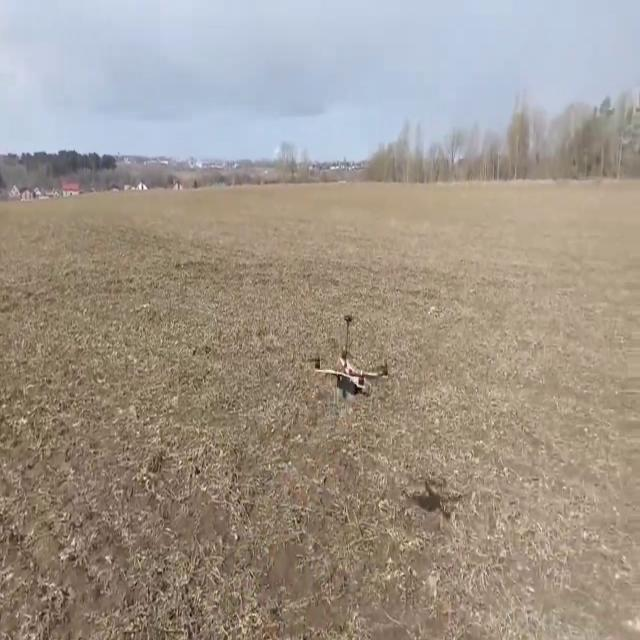Drons: (296, 312, 400, 413)
